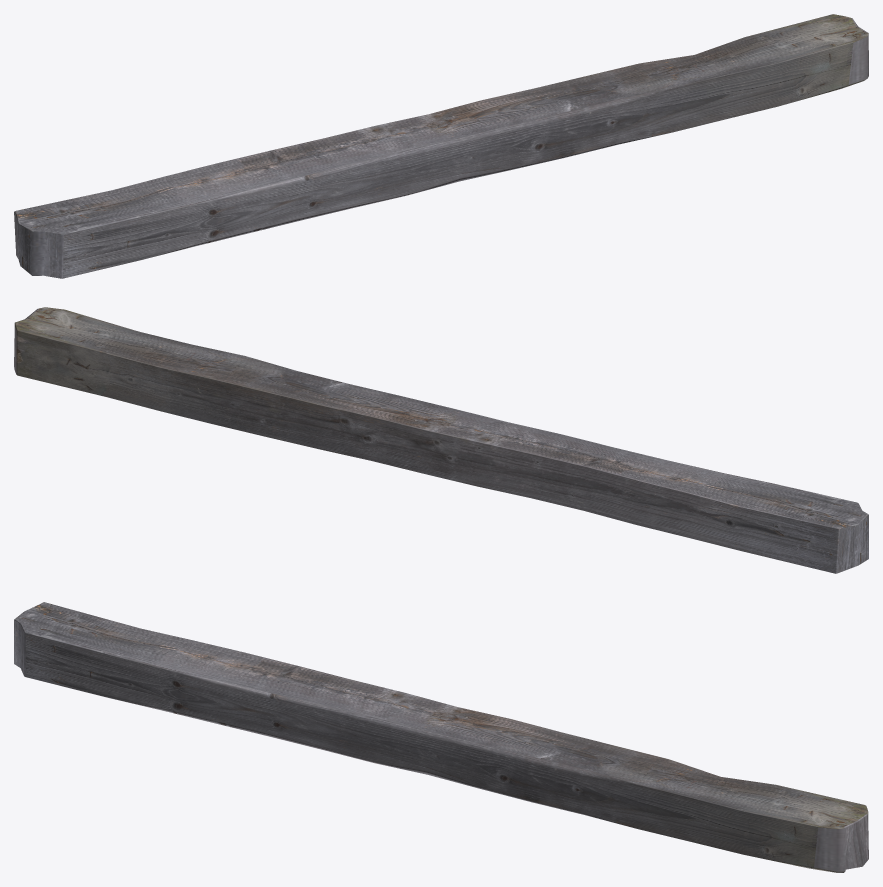
File: SM_WoodPlank_02_07.fbx
The picture shows the model from 3 angles, top to bottom: view 1: azimuth 30°, elevation 25°; view 2: azimuth 150°, elevation 25°; view 3: azimuth 330°, elevation 25°; orthographic projection.
Parts seen in each view (by area): view 1: sm_WoodPlank_02_07_LOD0; view 2: sm_WoodPlank_02_07_LOD0; view 3: sm_WoodPlank_02_07_LOD0.
Part boxes in pixels (bbox=[...]): sm_WoodPlank_02_07_LOD0: bbox=[14, 14, 868, 278]; sm_WoodPlank_02_07_LOD0: bbox=[14, 307, 868, 573]; sm_WoodPlank_02_07_LOD0: bbox=[14, 602, 868, 872].
Bounding box in the file's own units: 21.2 × 299 × 16.94.
